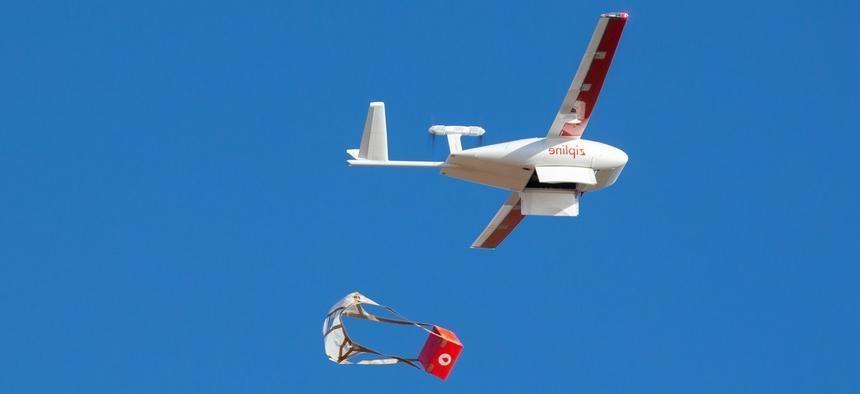Airplane: (331, 5, 643, 269)
